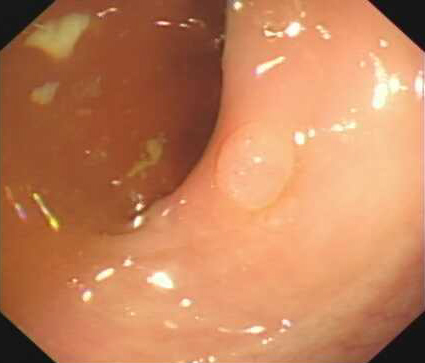others: (215, 119, 295, 212)
